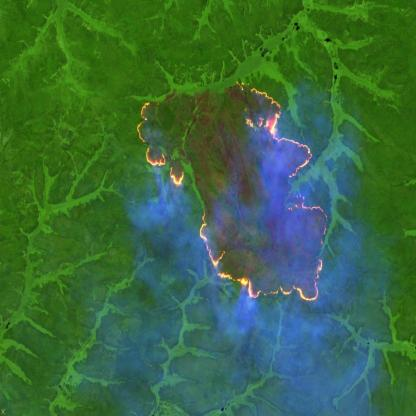fire: (120, 87, 330, 310)
